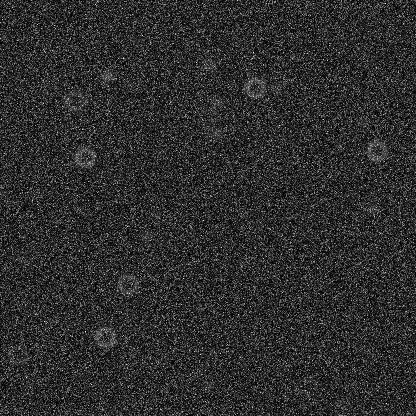Ring: (5, 342, 29, 366), (116, 272, 140, 296), (92, 324, 116, 348), (195, 104, 219, 128), (242, 75, 266, 99), (13, 240, 37, 264), (365, 138, 389, 162), (72, 145, 96, 169), (63, 88, 87, 112), (295, 373, 319, 397)
Spot: (99, 68, 115, 84), (85, 168, 101, 184), (363, 201, 379, 217), (202, 57, 218, 73), (200, 376, 216, 392), (314, 92, 330, 108), (268, 78, 284, 94), (209, 93, 225, 109), (355, 115, 371, 131), (207, 124, 223, 140), (137, 228, 153, 244), (29, 81, 45, 97)
